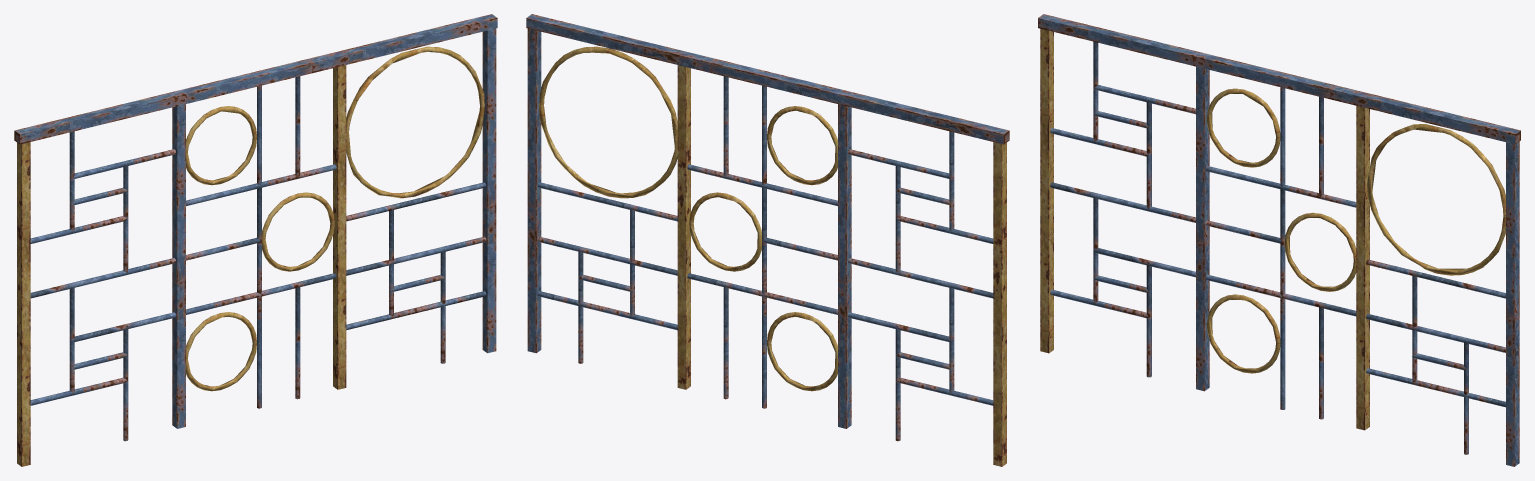
Rendered from playground_climbing_frame_a.glb.
3 renders of one model, left to right at view 1: azimuth 30°, elevation 25°; view 2: azimuth 150°, elevation 25°; view 3: azimuth 330°, elevation 25°, orthographic.
Visible parts, largest first — view 1: playground_climbing_frame_a; view 2: playground_climbing_frame_a; view 3: playground_climbing_frame_a.
Boxes of the visible parts, box(x1,y1,x2,y2) form: playground_climbing_frame_a: box(14, 14, 497, 466); playground_climbing_frame_a: box(526, 14, 1009, 466); playground_climbing_frame_a: box(1038, 14, 1520, 466).
Size of the model in its own units: 3.87 by 2.59 by 0.0777.
Materials: 1 (1 with a texture image).
